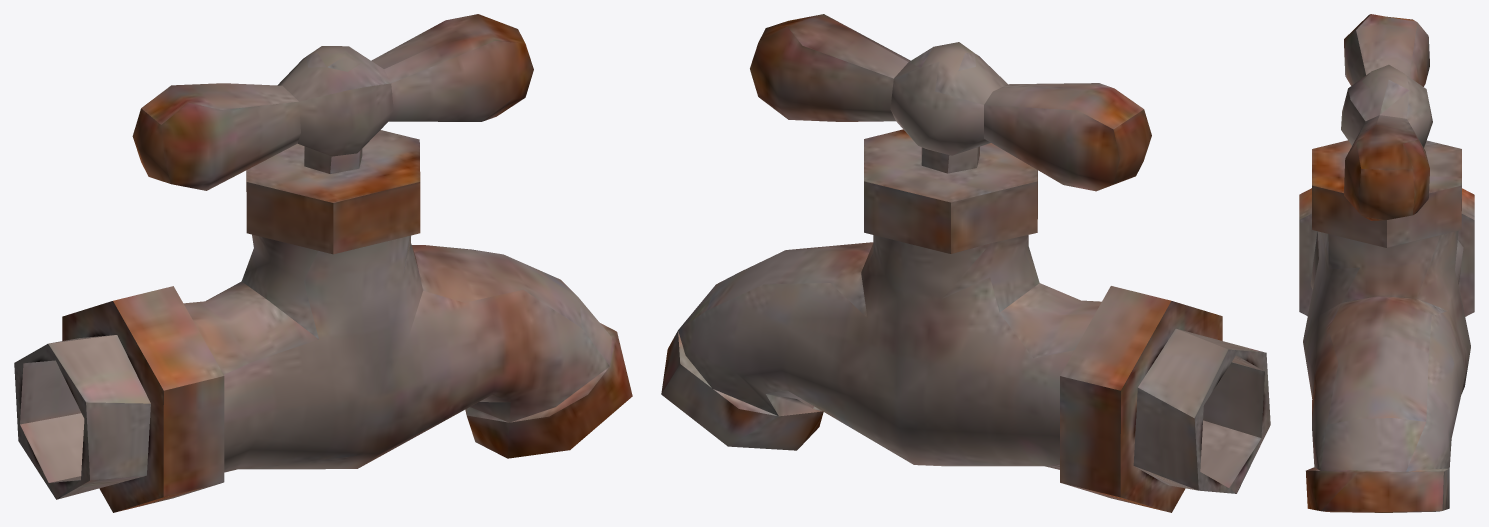
The model's file is small_steel_pipe_24.glb.
The picture shows the model from 3 angles, left to right: view 1: azimuth 30°, elevation 25°; view 2: azimuth 150°, elevation 25°; view 3: azimuth 270°, elevation 25°; orthographic projection. The views are drawn at different scales.
Visible parts, largest first — view 1: small_steel_pipe_24; view 2: small_steel_pipe_24; view 3: small_steel_pipe_24.
Boxes of the visible parts, x1=… form: small_steel_pipe_24: x1=14, y1=14, x2=632, y2=512; small_steel_pipe_24: x1=661, y1=14, x2=1270, y2=512; small_steel_pipe_24: x1=1299, y1=14, x2=1474, y2=512.
Size of what is drawn, in the model's own units: 0.0731 by 0.0534 by 0.0227.
1 material, 1 textured.
